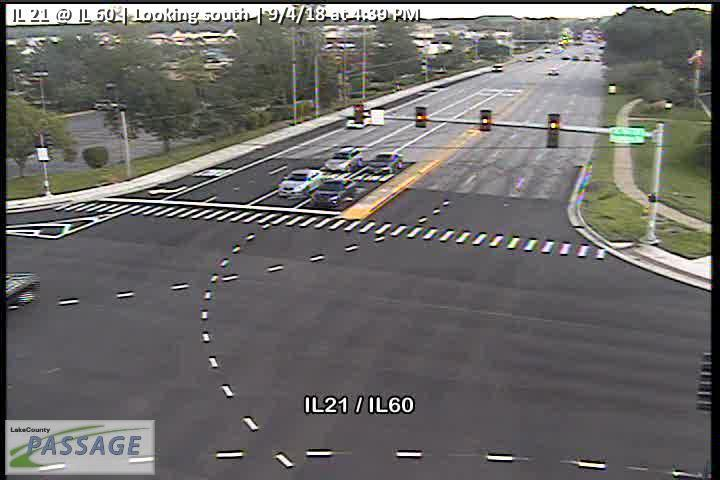Sedan: (311, 177, 356, 208), (278, 168, 323, 197), (323, 146, 364, 172), (365, 152, 405, 174)
